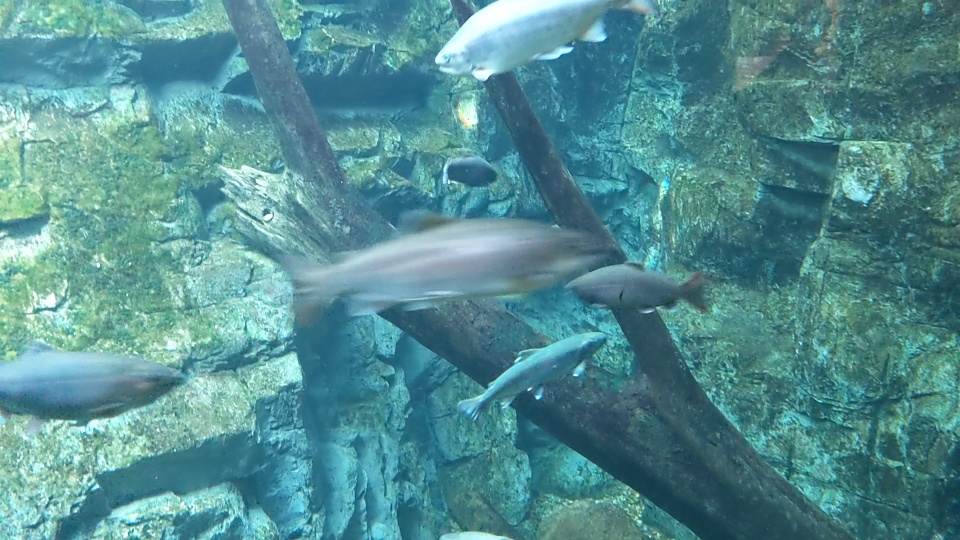Fish: (286, 210, 609, 326), (430, 0, 654, 84), (0, 336, 183, 427), (452, 331, 606, 422), (575, 264, 707, 312), (439, 150, 496, 190)
